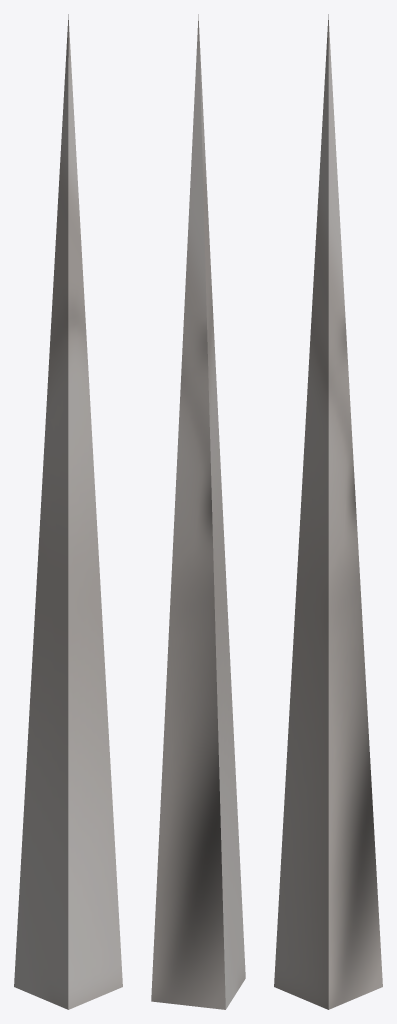
Rendered from Antenna_00.fbx.
The picture shows the model from 3 angles, left to right: view 1: azimuth 90°, elevation 25°; view 2: azimuth 210°, elevation 25°; view 3: azimuth 270°, elevation 25°; orthographic projection.
Parts seen in each view (by area): view 1: Antenna_00; view 2: Antenna_00; view 3: Antenna_00.
Part boxes in pixels (bbox=[...]): Antenna_00: bbox=[14, 14, 122, 1009]; Antenna_00: bbox=[151, 14, 245, 1009]; Antenna_00: bbox=[274, 14, 382, 1009].
Size of the model in its own units: 1.03 by 10.17 by 1.03.
